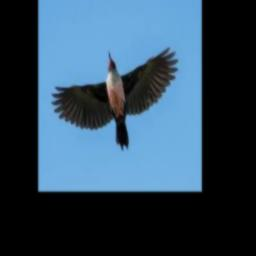Woodpecker: (52, 47, 178, 150)
